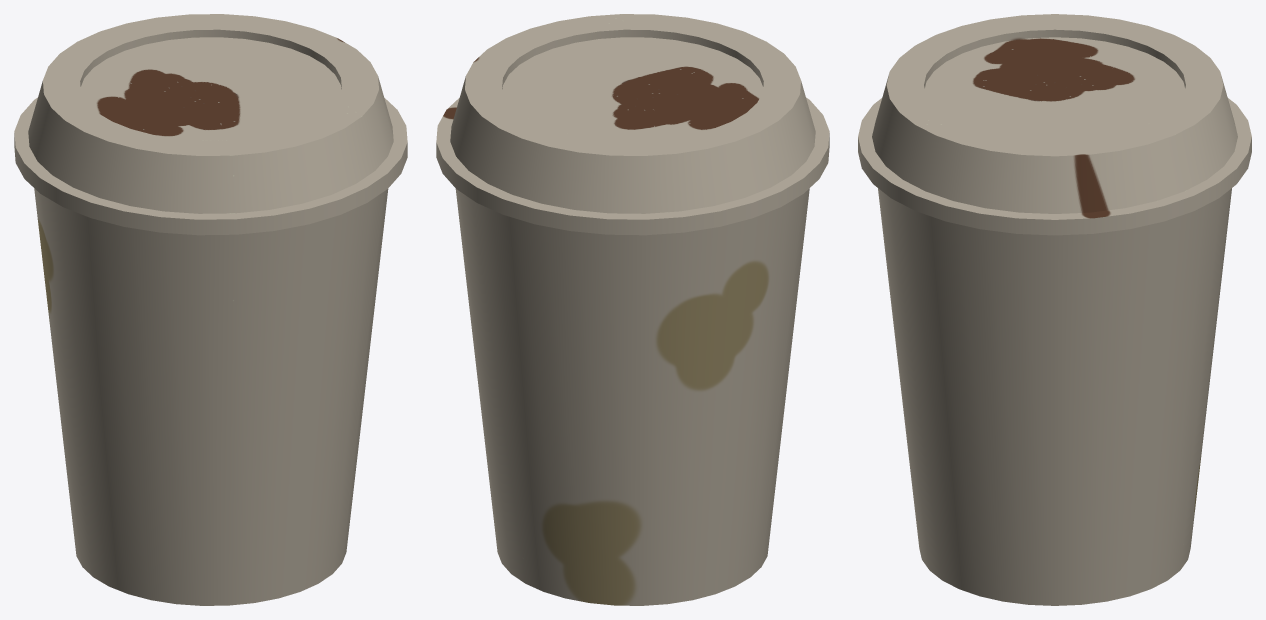
File: coffee_cup.fbx
3 views of the same model, side by side, from view 1: azimuth 30°, elevation 25°; view 2: azimuth 150°, elevation 25°; view 3: azimuth 270°, elevation 25° (orthographic).
Parts seen in each view (by area): view 1: Circle; view 2: Circle; view 3: Circle.
Boxes of the visible parts, x1,y1,x2,y2 form: Circle: (14, 14, 407, 605); Circle: (436, 14, 829, 605); Circle: (858, 14, 1251, 605).
Bounding box in the file's own units: 290 × 377 × 290.
